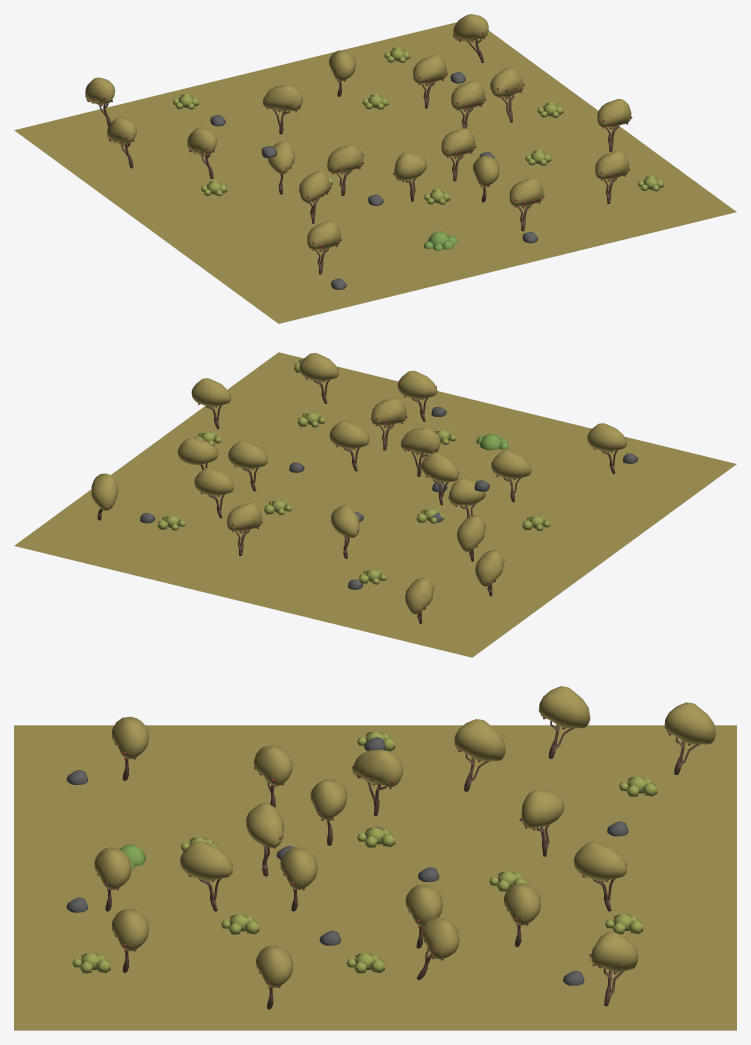
Rendered from low-poly-foliage-pack.dae.
3 renders of one model, top to bottom at view 1: azimuth 30°, elevation 25°; view 2: azimuth 150°, elevation 25°; view 3: azimuth 270°, elevation 25°, orthographic. The views are drawn at different scales.
Visible parts, largest first — view 1: floor, apple-tree.001, apple-tree.004, apple-tree.011, apple-tree.010, apple-tree.015, apple-tree.014, apple-tree.013, apple-tree.007, apple-tree.012, apple-tree.016, apple-tree.009 (+8 smaller); view 2: floor, apple-tree.003, apple-tree.005, apple-tree.009, apple-tree.007, apple-tree.015, apple-tree.010, apple-tree.013, apple-tree.014, apple-tree.011, apple-tree.002, apple-tree.004 (+8 smaller); view 3: floor, apple-tree.018, apple-tree.017, apple-tree.006, apple-tree.008, apple-tree.002, apple-tree.016, apple-tree, apple-tree.001, apple-tree.005, apple-tree.012, apple-tree.011 (+14 smaller).
Boxes of the visible parts, x1=… form: floor: x1=14, y1=22, x2=736, y2=323; apple-tree.001: x1=262, y1=85, x2=302, y2=134; apple-tree.004: x1=327, y1=144, x2=364, y2=195; apple-tree.011: x1=441, y1=128, x2=476, y2=181; apple-tree.010: x1=509, y1=178, x2=544, y2=231; apple-tree.015: x1=307, y1=221, x2=342, y2=274; apple-tree.014: x1=597, y1=99, x2=632, y2=151; apple-tree.013: x1=595, y1=151, x2=630, y2=203; apple-tree.007: x1=413, y1=55, x2=447, y2=108; apple-tree.012: x1=490, y1=67, x2=524, y2=122; apple-tree.016: x1=453, y1=14, x2=488, y2=62; apple-tree.009: x1=451, y1=81, x2=486, y2=128; floor: x1=14, y1=352, x2=736, y2=657; apple-tree.003: x1=491, y1=450, x2=531, y2=502; apple-tree.005: x1=400, y1=427, x2=440, y2=476; apple-tree.009: x1=228, y1=440, x2=267, y2=491; apple-tree.007: x1=194, y1=467, x2=233, y2=518; apple-tree.015: x1=587, y1=423, x2=626, y2=474; apple-tree.010: x1=397, y1=370, x2=437, y2=421; apple-tree.013: x1=299, y1=353, x2=338, y2=403; apple-tree.014: x1=191, y1=378, x2=231, y2=429; apple-tree.011: x1=329, y1=420, x2=369, y2=471; apple-tree.002: x1=371, y1=397, x2=407, y2=450; apple-tree.004: x1=421, y1=452, x2=459, y2=505; floor: x1=14, y1=725, x2=736, y2=1030; apple-tree.018: x1=454, y1=719, x2=505, y2=791; apple-tree.017: x1=664, y1=702, x2=715, y2=775; apple-tree.006: x1=538, y1=686, x2=590, y2=758; apple-tree.008: x1=574, y1=841, x2=626, y2=911; apple-tree.002: x1=180, y1=841, x2=232, y2=911; apple-tree.016: x1=589, y1=932, x2=638, y2=1006; apple-tree: x1=352, y1=749, x2=402, y2=815; apple-tree.001: x1=519, y1=790, x2=564, y2=856; apple-tree.005: x1=246, y1=803, x2=284, y2=876; apple-tree.012: x1=416, y1=917, x2=459, y2=980; apple-tree.011: x1=280, y1=847, x2=317, y2=911.
Size of the model in its own units: 27.88 by 27.88 by 3.11.
